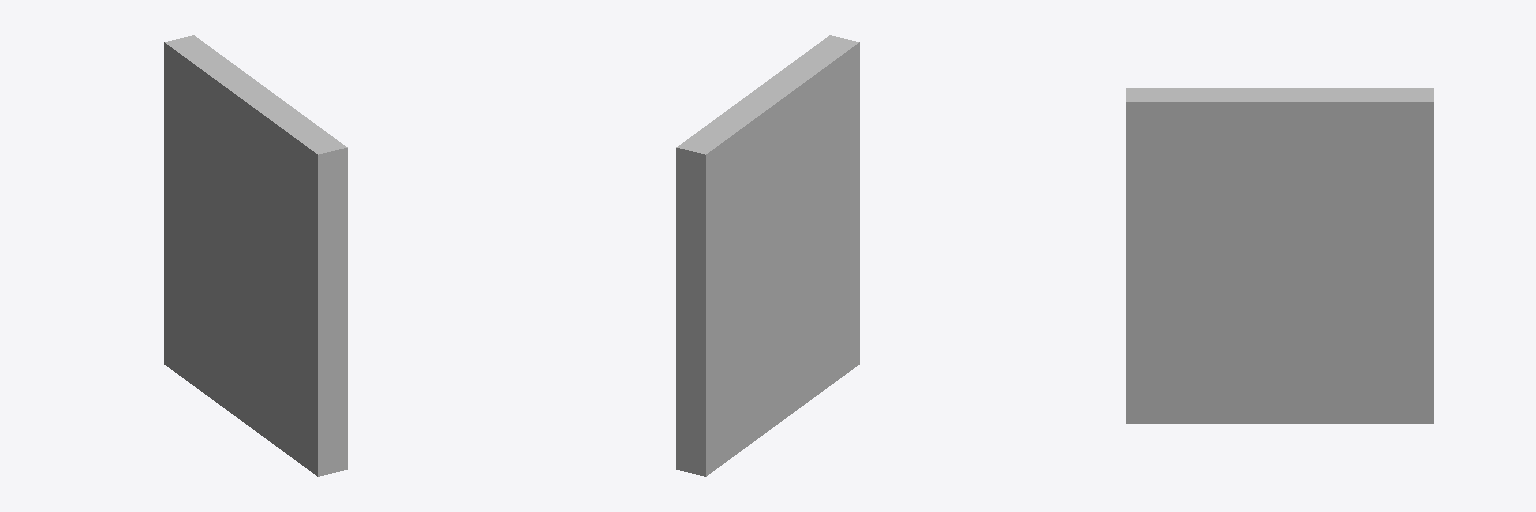
File: Optical_pad.001.obj
3 renders of one model, left to right at view 1: azimuth 30°, elevation 25°; view 2: azimuth 150°, elevation 25°; view 3: azimuth 270°, elevation 25°, orthographic.
Parts seen in each view (by area): view 1: pad.001; view 2: pad.001; view 3: pad.001.
Boxes of the visible parts, x1,y1,x2,y2 form: pad.001: [164, 35, 347, 476]; pad.001: [676, 35, 859, 476]; pad.001: [1126, 88, 1433, 423].
Bounding box in the file's own units: 0.0039 × 0.0406 × 0.0351.